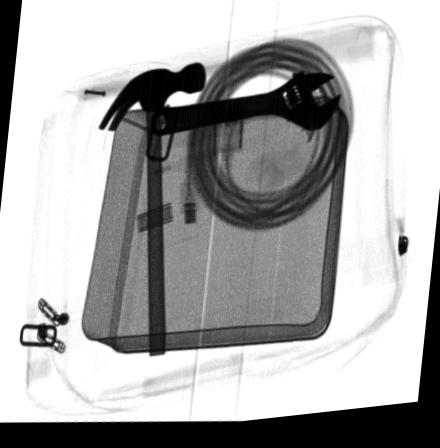Hammer: (97, 66, 205, 361)
Wrench: (149, 80, 341, 140)
